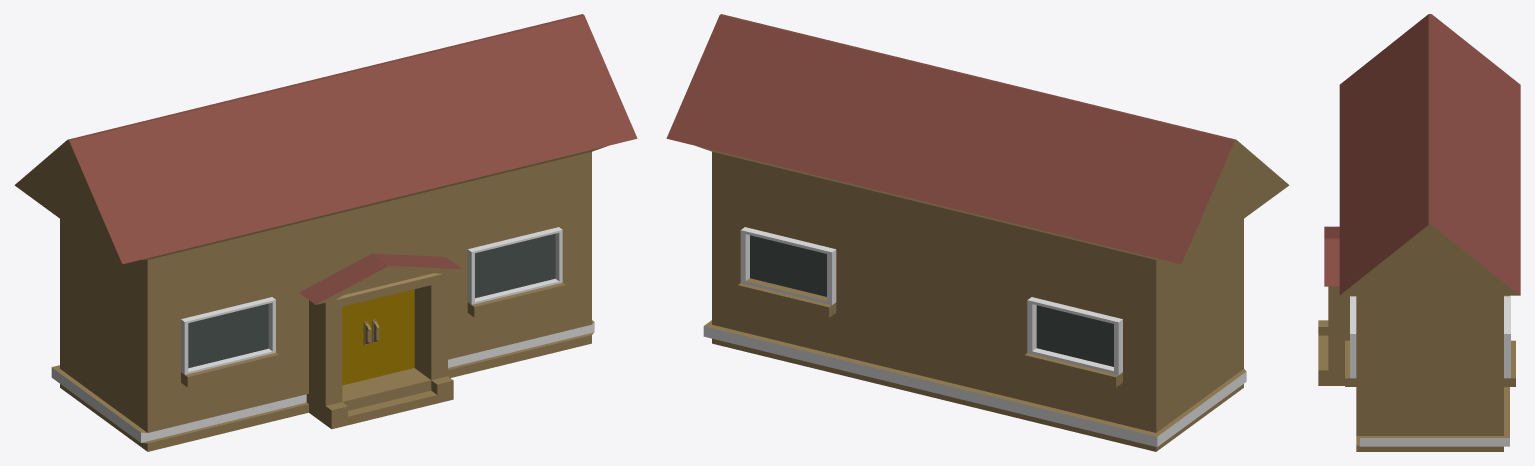
File: MainOffice.fbx
3 renders of one model, left to right at view 1: azimuth 30°, elevation 25°; view 2: azimuth 150°, elevation 25°; view 3: azimuth 270°, elevation 25°, orthographic. The views are drawn at different scales.
Visible parts, largest first — view 1: MainOffice; view 2: MainOffice; view 3: MainOffice.
Boxes of the visible parts, x1,y1,x2,y2 form: MainOffice: (14,14,637,451); MainOffice: (666,14,1289,451); MainOffice: (1318,14,1520,451).
Bounding box in the file's own units: 17.49 × 9.35 × 7.1.
